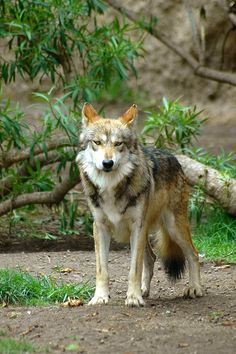Lobo: (60, 94, 212, 303)
